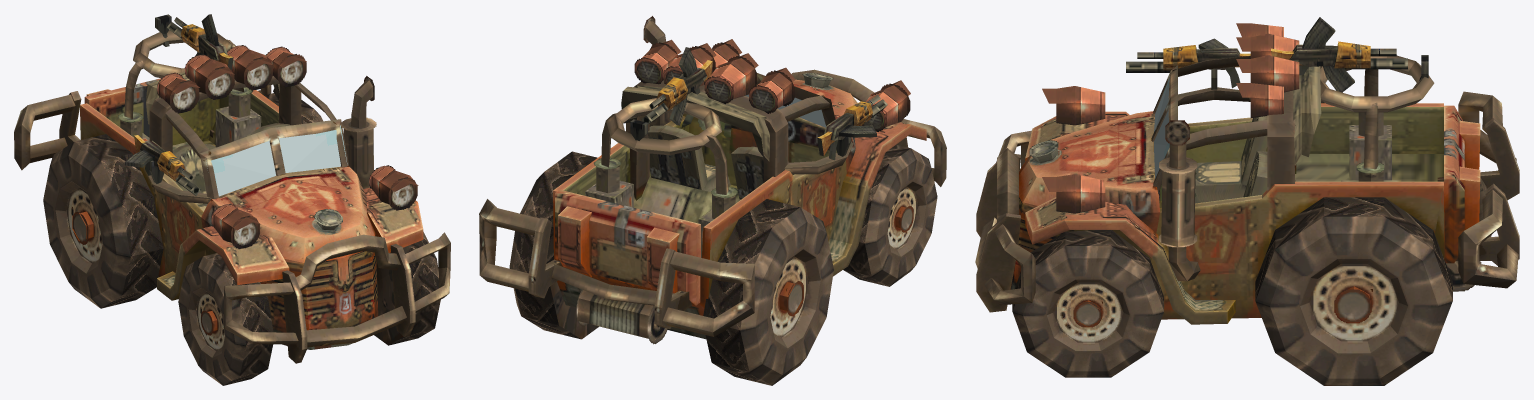
The model's file is VTLTRAH.obj.
3 views of the same model, side by side, from view 1: azimuth 30°, elevation 25°; view 2: azimuth 150°, elevation 25°; view 3: azimuth 270°, elevation 25° (orthographic). The views are drawn at different scales.
Parts seen in each view (by area): view 1: Node 0, Node 4, Node 3, Node 1, Node 8, Node 12, Node 2; view 2: Node 0, Node 4, Node 3, Node 2, Node 12, Node 8; view 3: Node 0, Node 2, Node 1, Node 12, Node 8.
Part boxes in pixels (x1=…): Node 0: x1=14, y1=30, x2=450, y2=363; Node 4: x1=43, y1=134, x2=163, y2=308; Node 3: x1=178, y1=253, x2=273, y2=385; Node 1: x1=374, y1=232, x2=440, y2=345; Node 8: x1=124, y1=135, x2=200, y2=195; Node 12: x1=167, y1=14, x2=233, y2=70; Node 2: x1=264, y1=93, x2=322, y2=123; Node 0: x1=479, y1=16, x2=946, y2=344; Node 4: x1=703, y1=199, x2=833, y2=385; Node 3: x1=843, y1=144, x2=937, y2=286; Node 2: x1=509, y1=151, x2=598, y2=339; Node 12: x1=641, y1=47, x2=712, y2=125; Node 8: x1=817, y1=94, x2=887, y2=160; Node 0: x1=975, y1=23, x2=1519, y2=324; Node 2: x1=1255, y1=197, x2=1452, y2=385; Node 1: x1=1012, y1=230, x2=1163, y2=377; Node 12: x1=1271, y1=17, x2=1407, y2=92; Node 8: x1=1126, y1=38, x2=1250, y2=88.
Size of the model in its own units: 3.28 by 3.28 by 5.24.
Materials: 18 (18 with a texture image).
